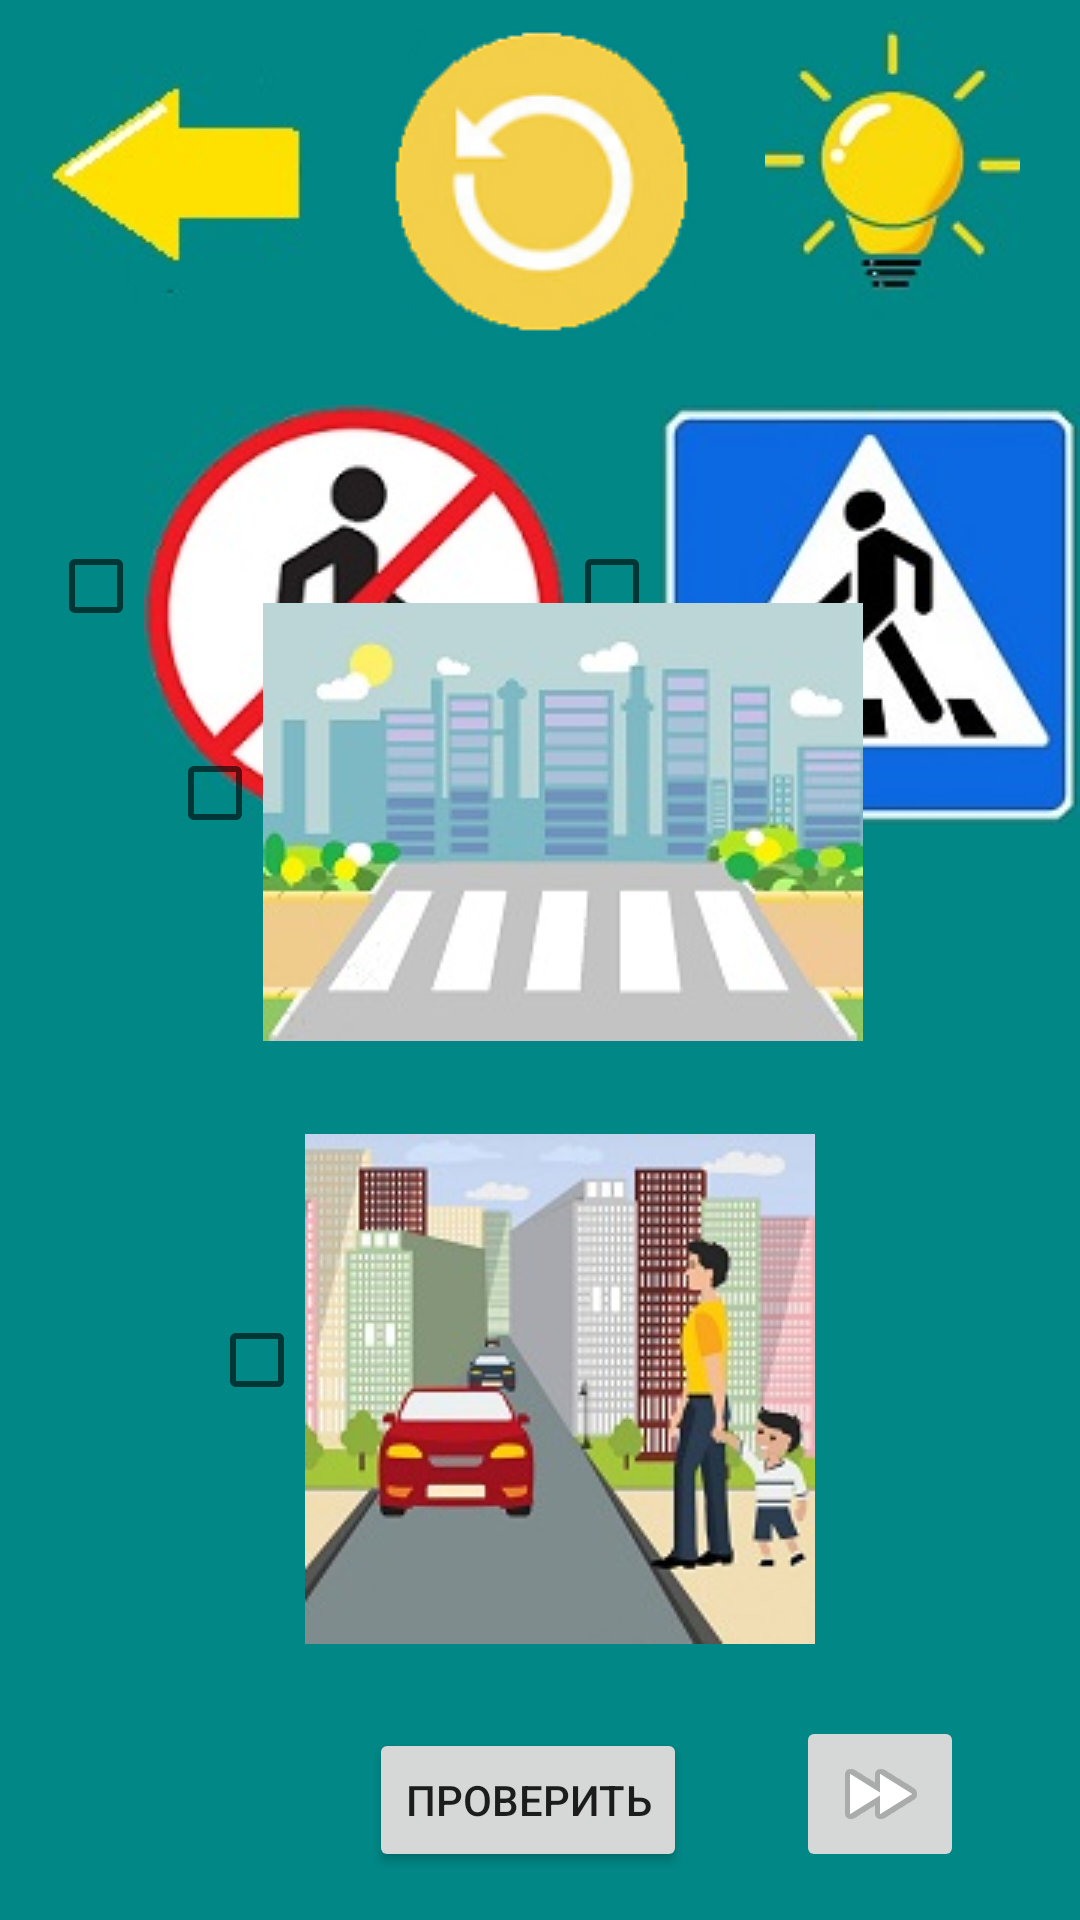

Icon click points for this 1080x1920 phone screenshot, format point (x, y):
back ready: point (176, 188)
help ready: point (892, 160)
replay ready: point (541, 181)
